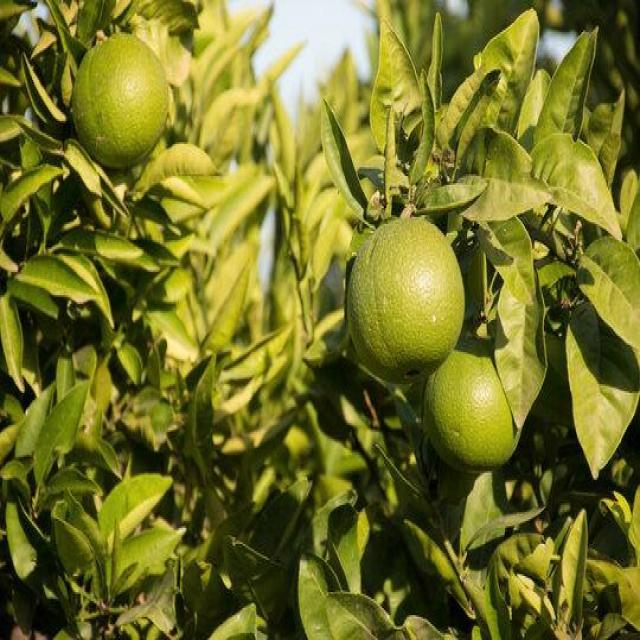Jeruk Belum Matang: (344, 218, 464, 382), (424, 332, 526, 473), (71, 32, 171, 171)
